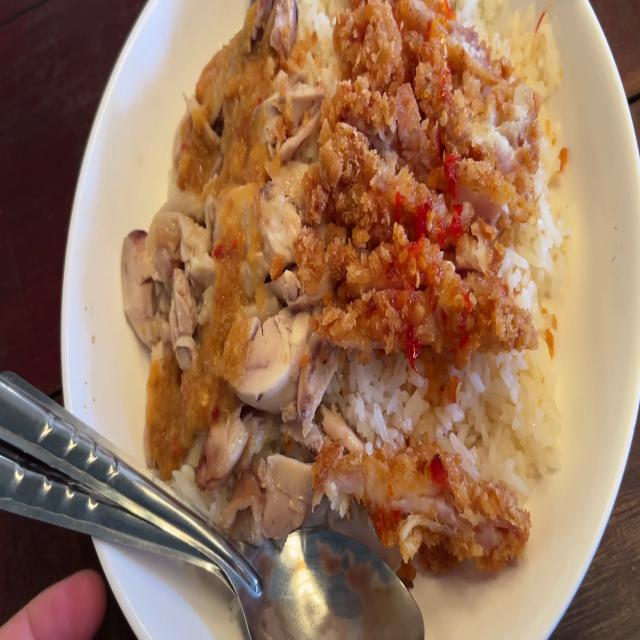boiled_chicken: (120, 0, 306, 422)
chicken_rice: (126, 0, 557, 579)
fried_chicken: (312, 0, 535, 369), (247, 430, 527, 570)
